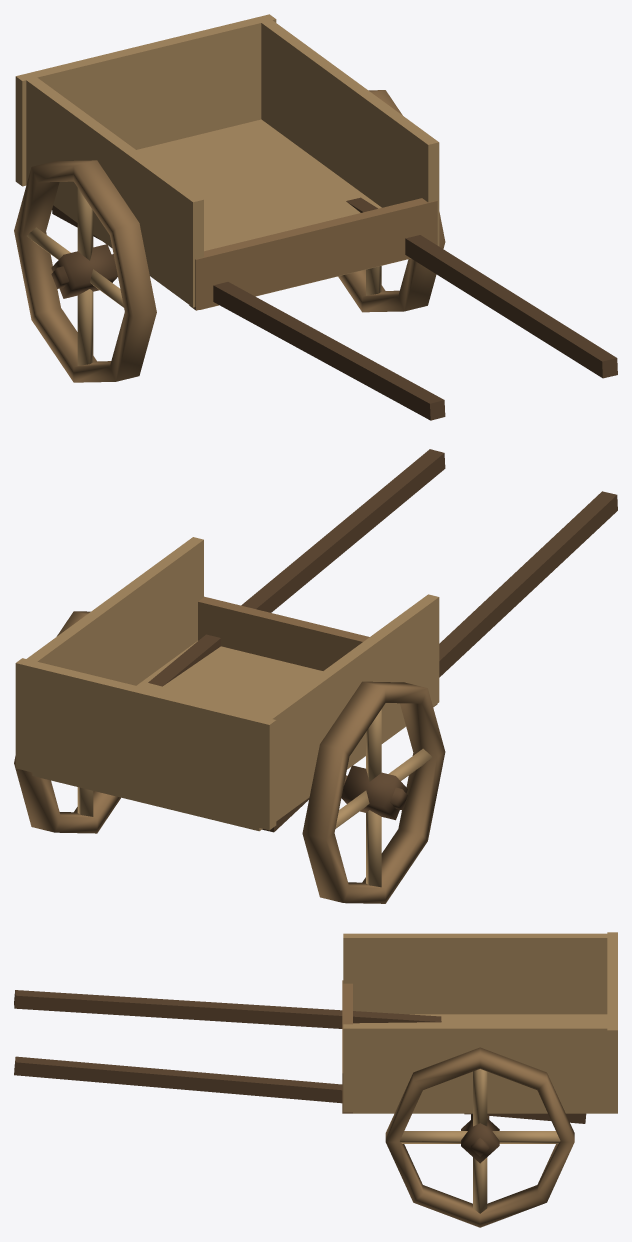
File: horse_cart_lod2.glb
3 views of the same model, one above another, from view 1: azimuth 30°, elevation 25°; view 2: azimuth 150°, elevation 25°; view 3: azimuth 270°, elevation 25° (orthographic). The views are drawn at different scales.
Visible parts, largest first — view 1: CartBody.002, WheelLeft.002, WheelRight.002; view 2: CartBody.002, WheelLeft.002, WheelRight.002; view 3: CartBody.002, WheelRight.002.
Part boxes in pixels (x1=…): CartBody.002: x1=15, y1=14, x2=617, y2=420; WheelLeft.002: x1=14, y1=160, x2=156, y2=382; WheelRight.002: x1=338, y1=90, x2=445, y2=312; CartBody.002: x1=15, y1=449, x2=617, y2=832; WheelLeft.002: x1=302, y1=681, x2=445, y2=903; WheelRight.002: x1=14, y1=611, x2=120, y2=833; CartBody.002: x1=14, y1=932, x2=617, y2=1156; WheelRight.002: x1=385, y1=1047, x2=574, y2=1227.
Size of the model in its own units: 2.2 by 1.44 by 4.22.
